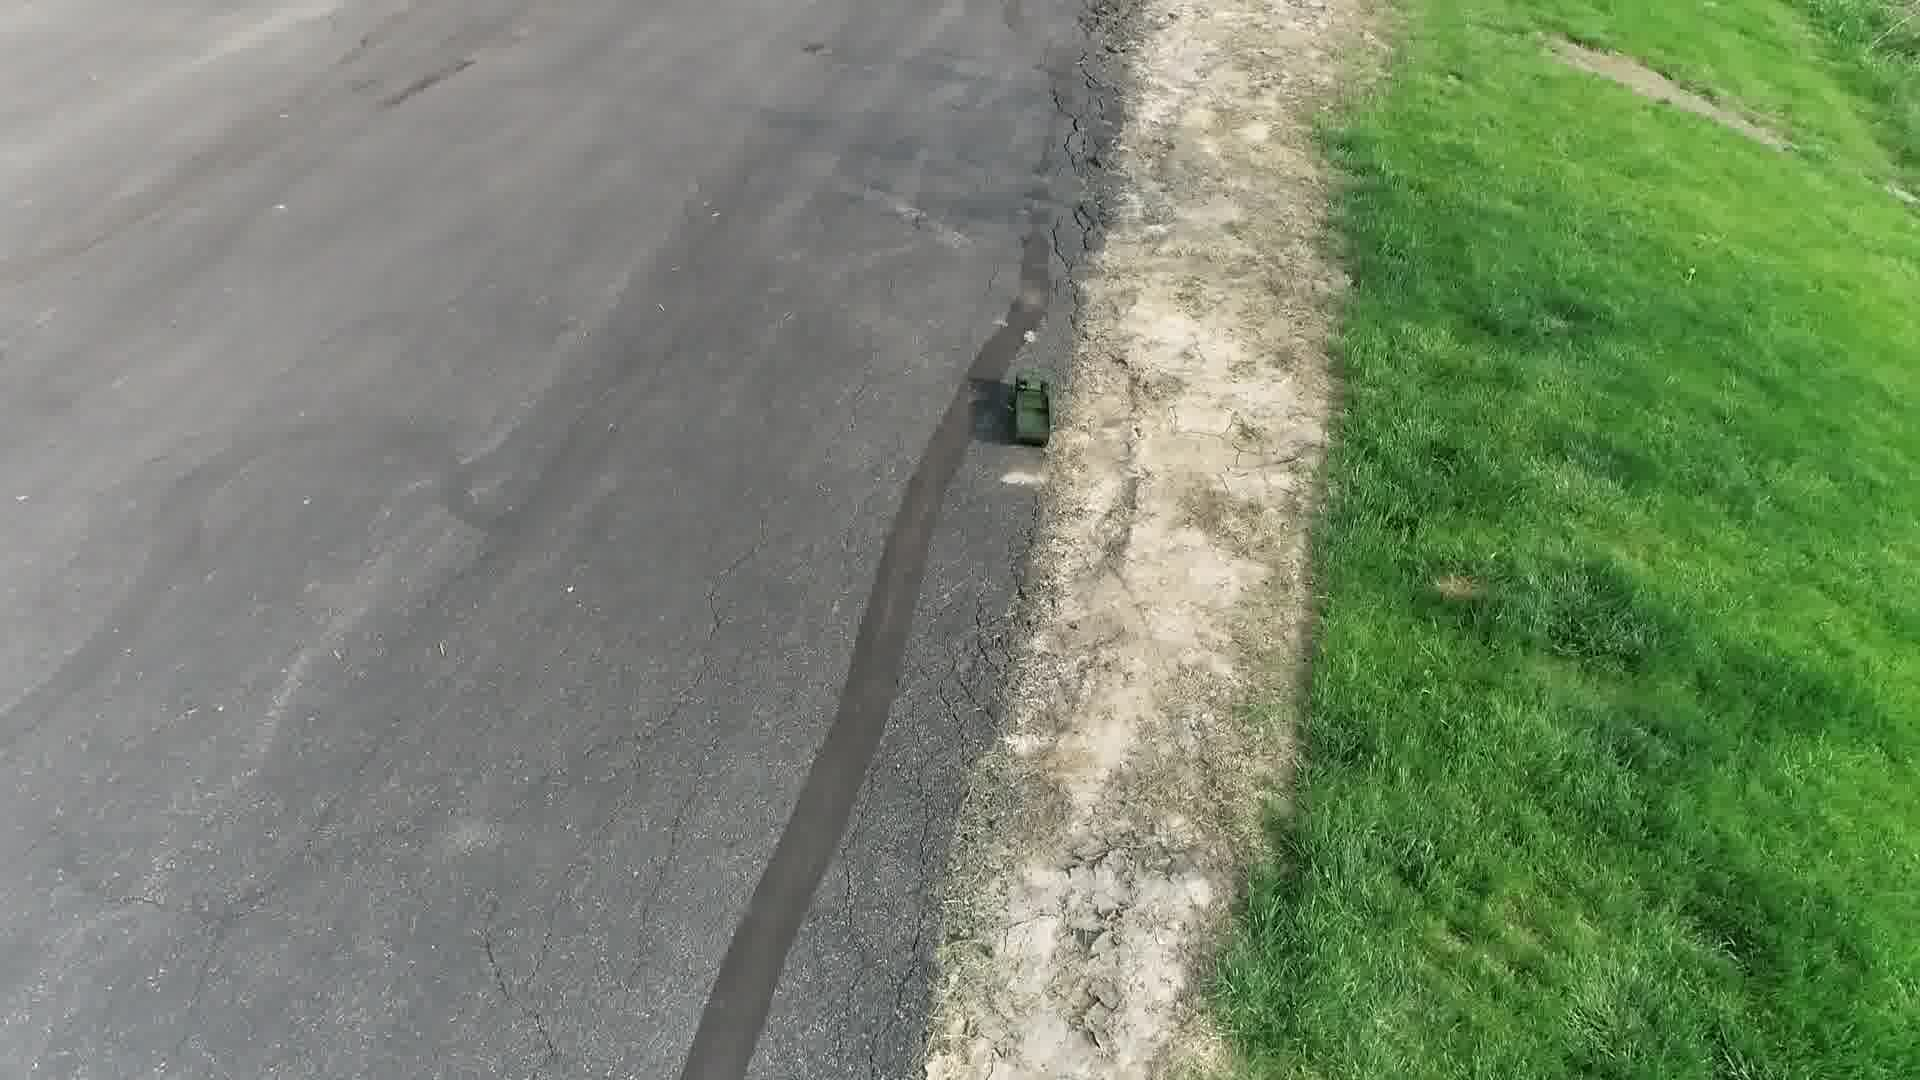transporter9: (1004, 369, 1059, 451)
